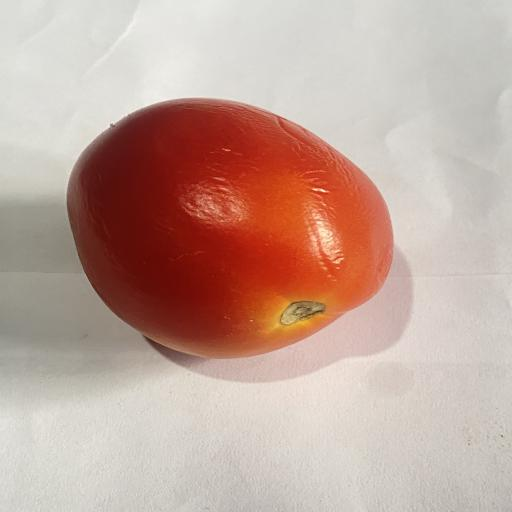spoiled: (67, 98, 393, 358)
